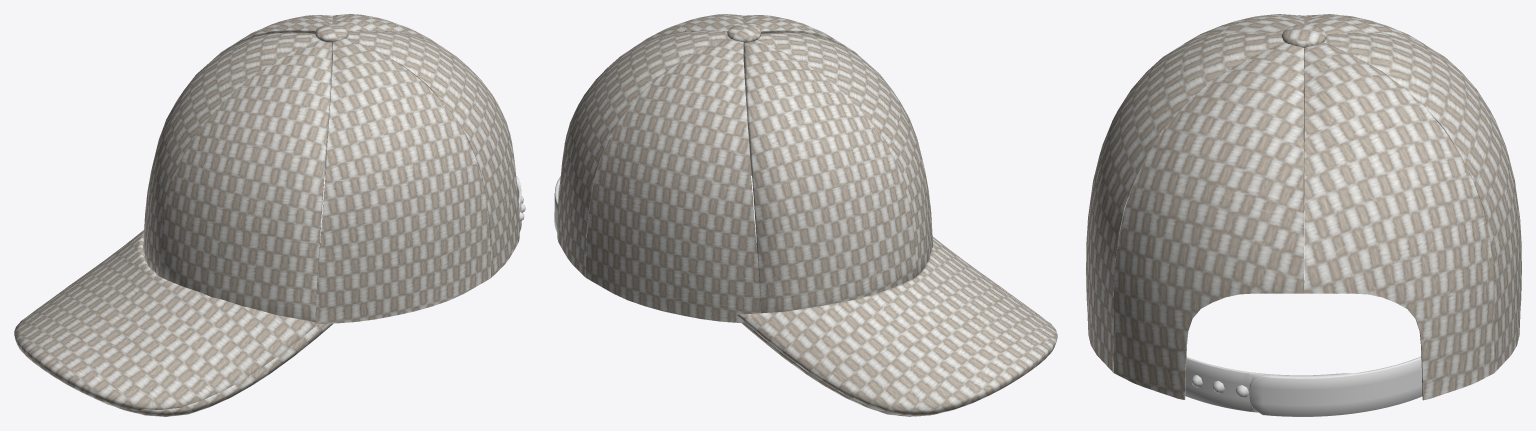
The model's file is 04_new_york.glb.
3 renders of one model, left to right at view 1: azimuth 30°, elevation 25°; view 2: azimuth 150°, elevation 25°; view 3: azimuth 270°, elevation 25°, orthographic. The views are drawn at different scales.
Visible parts, largest first — view 1: corpo, frente, aba_cima, aba_baixo, defaultMaterial.001; view 2: corpo, frente, aba_cima, aba_baixo, defaultMaterial.001; view 3: corpo, defaultMaterial, frente, defaultMaterial.001.
Part boxes in pixels (box(x1,y1,x2,y2)): corpo: box(210, 14, 519, 323); frente: box(143, 32, 332, 322); aba_cima: box(14, 230, 317, 411); aba_baixo: box(90, 267, 332, 416); defaultMaterial.001: box(315, 24, 348, 42); corpo: box(557, 14, 866, 323); frente: box(744, 32, 932, 313); aba_cima: box(737, 236, 1057, 416); aba_baixo: box(741, 322, 931, 416); defaultMaterial.001: box(727, 24, 760, 42); corpo: box(1086, 32, 1521, 400); defaultMaterial: box(1185, 356, 1422, 416); frente: box(1183, 14, 1424, 201); defaultMaterial.001: box(1281, 24, 1326, 48).
Bounding box in the file's own units: 0.5342 × 0.3148 × 0.327.
6 materials, 5 textured.
